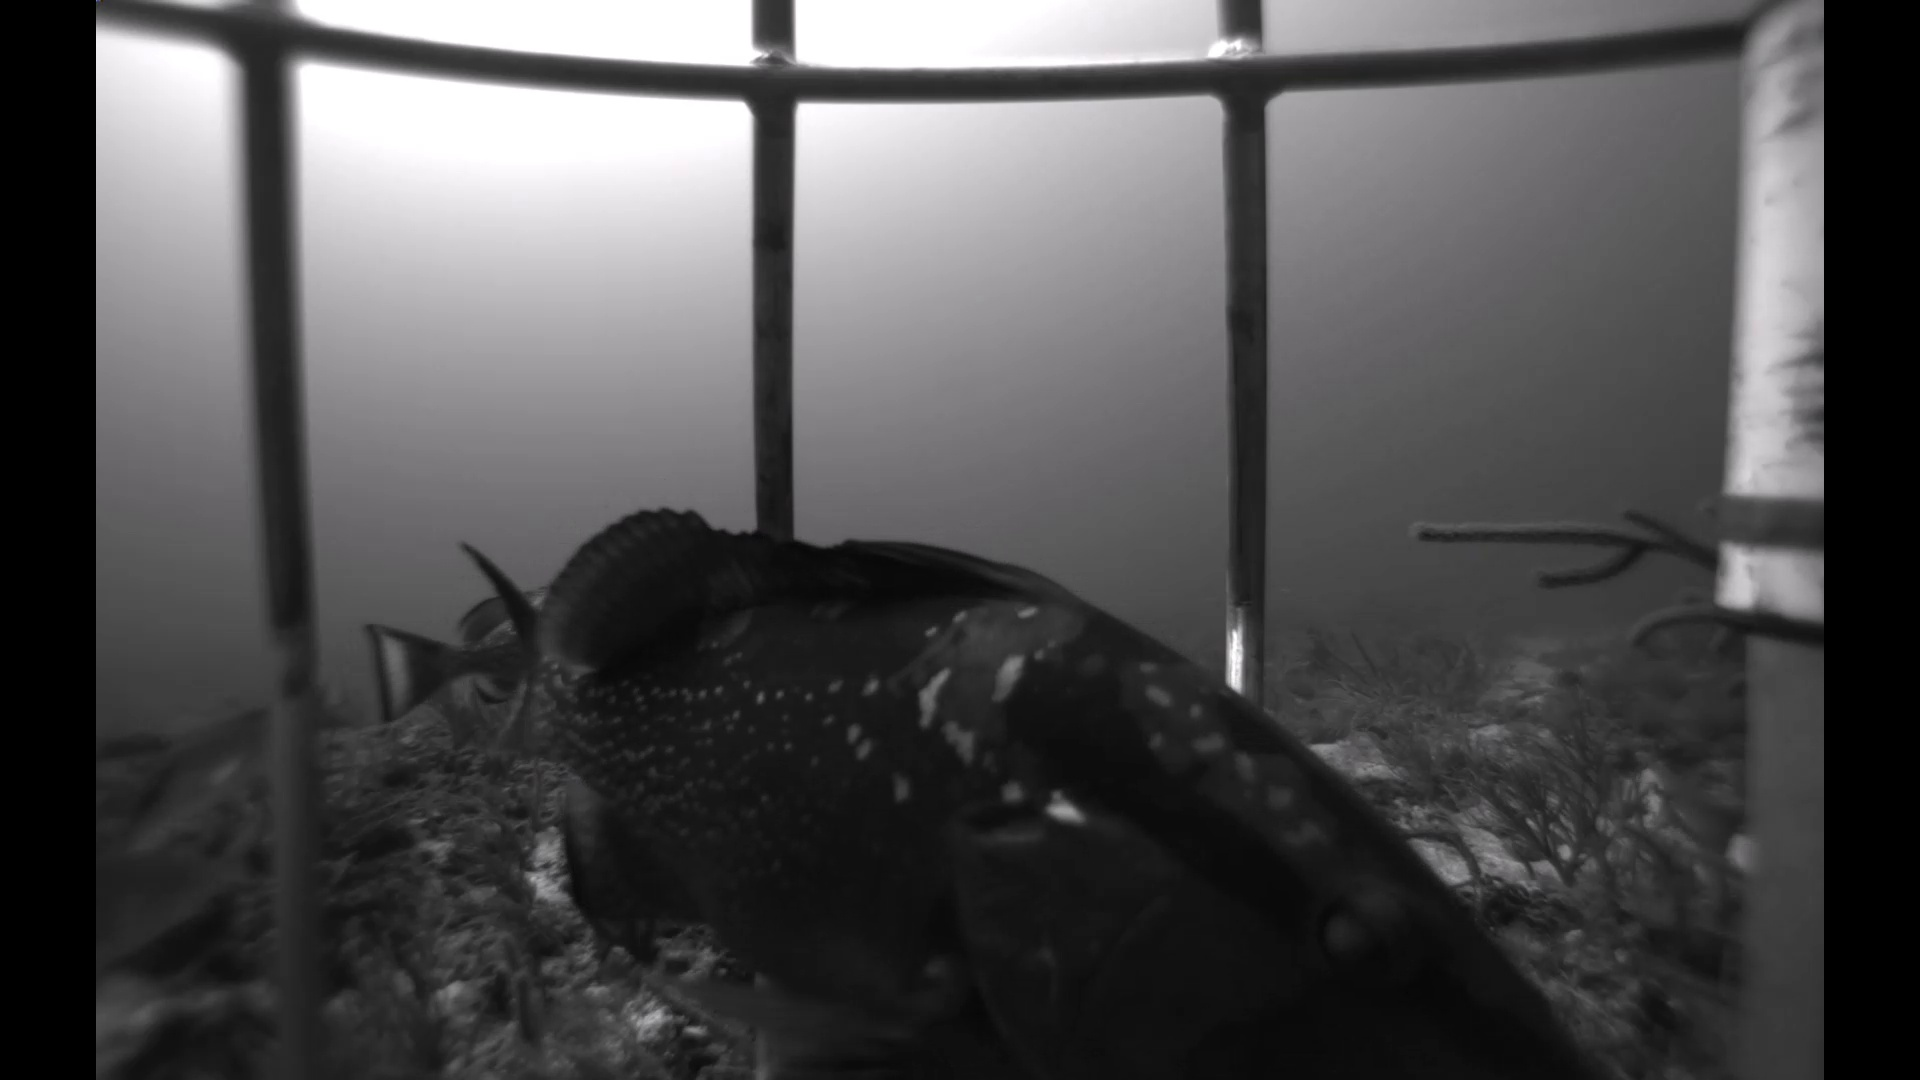CALAMUSNODOSUS-170210608: (98, 796, 277, 967), (1650, 749, 1759, 862)
EPINEPHELUSMORIO-170021211: (411, 471, 1593, 1080), (353, 567, 582, 744)
LUTJANUSGRISEUS-170151109: (108, 673, 349, 870)
